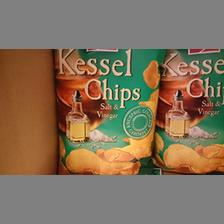Chips: (54, 49, 158, 177), (155, 47, 223, 172)
